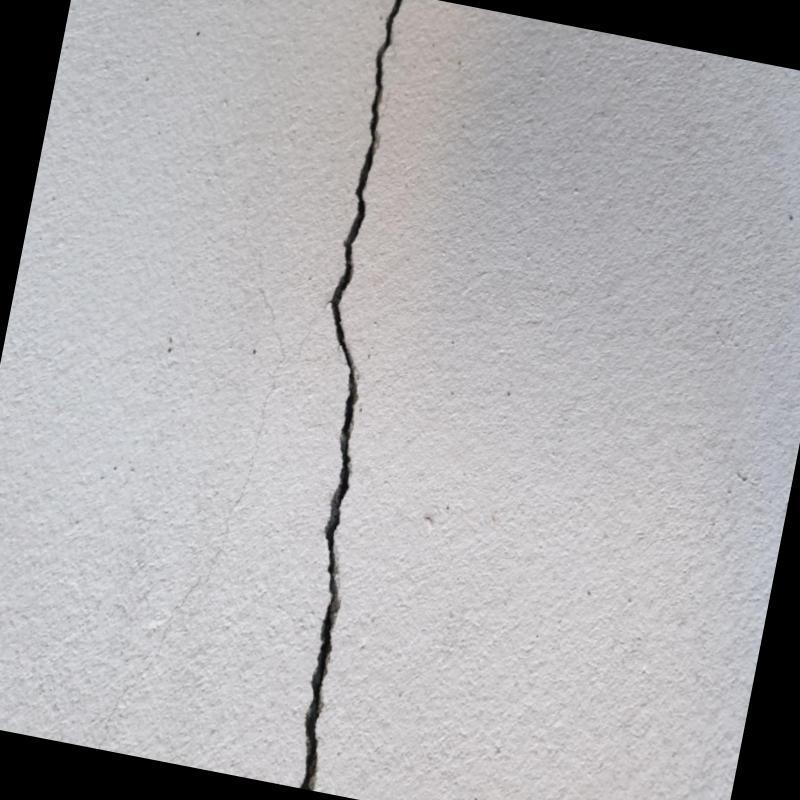pothole: (298, 0, 402, 789)
